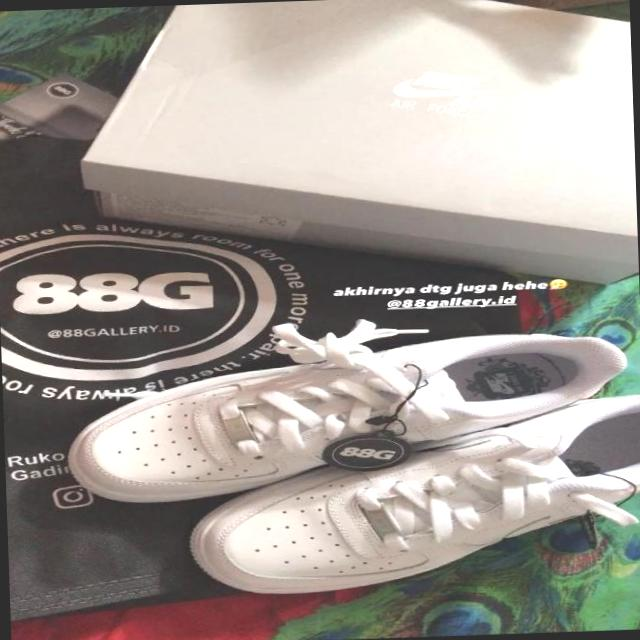nike_original_airforce: (61, 329, 640, 505), (185, 393, 640, 597)
